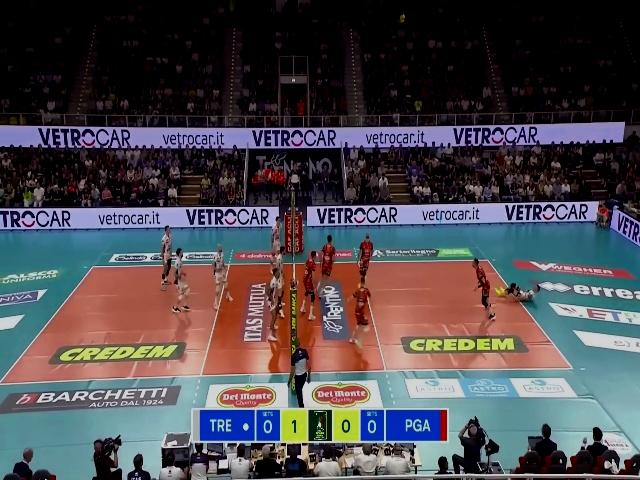volleyball court: (1, 258, 574, 382)
